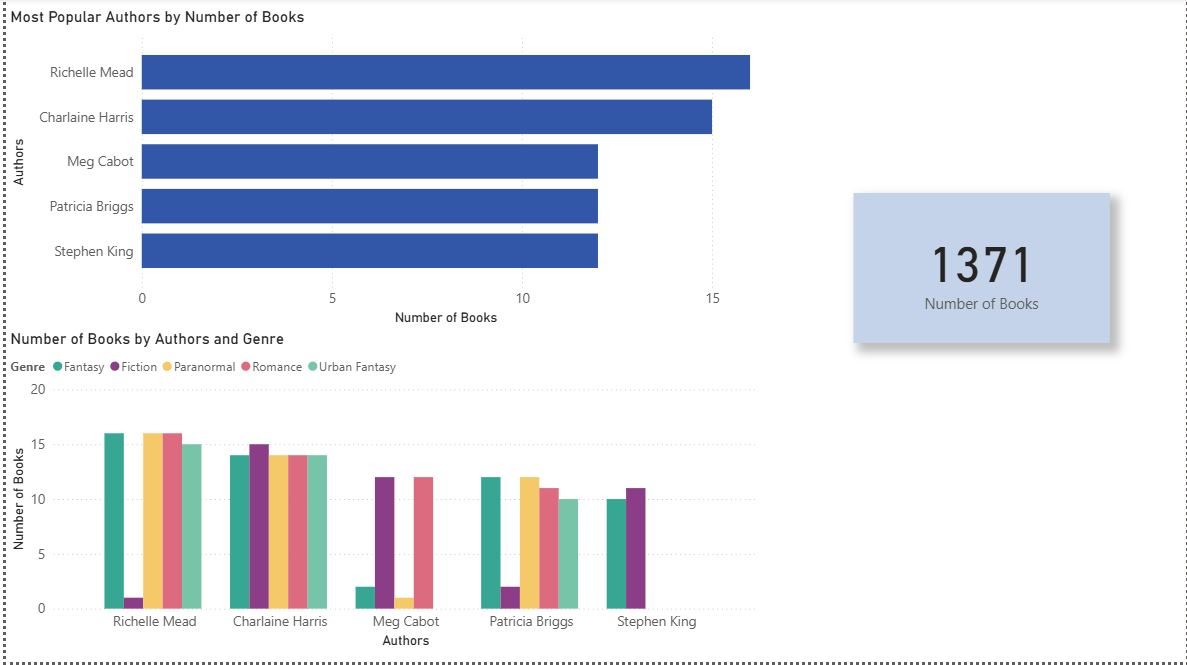

This screenshot's page, from the dashboard's own definition file:
{"tool":"powerbi","page":{"name":"Key Authors and Genre Associations","canvas":[1280,720],"ordinal":2},"visuals":[{"type":"clusteredBarChart","title":"Most Popular Authors by Number of Books","fields":{"Category":["goodreads_data.authors"],"Y":["goodreads_data.Count of Books"]},"box":[0,9.4,820.2,349.6],"z":0},{"type":"clusteredColumnChart","title":"Number of Books by Authors and Genre","fields":{"Category":["goodreads_data.authors"],"Series":["goodreads_data.Genre"],"Y":["goodreads_data.Count of Books"]},"box":[0,359.1,820.2,349.6],"z":1000},{"type":"card","fields":{"Values":["goodreads_data.Count of Books"]},"box":[918.4,211.7,277.8,162.5],"z":2000}]}

Visuals, with their boxes in screenshot pixels (x1, y1, x2, y2), scaled from the page's 1280x720 canvas onto the 1187x665 screenshot:
"Most Popular Authors by Number of Books" clusteredBarChart: 0:9:761:332
"Number of Books by Authors and Genre" clusteredColumnChart: 0:332:761:655
card - goodreads_data.Count of Books: 852:196:1109:346
